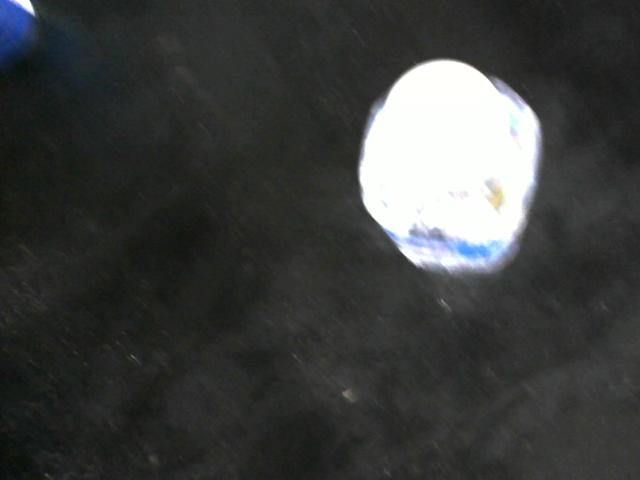bottle: (358, 58, 543, 279)
